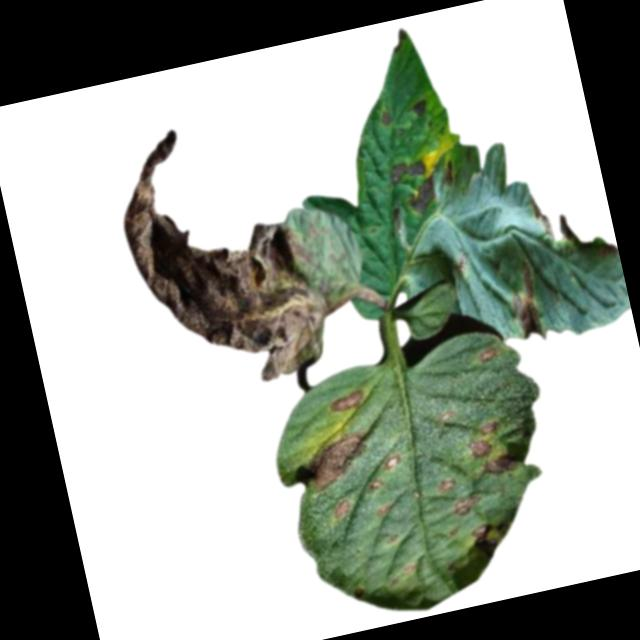Early_blight: (99, 99, 346, 402), (296, 431, 370, 489), (499, 258, 548, 342), (464, 412, 519, 477), (526, 187, 559, 247), (407, 175, 444, 218), (382, 156, 429, 186), (325, 386, 367, 414), (445, 491, 480, 519), (431, 473, 458, 496), (467, 522, 491, 546), (477, 346, 500, 366), (374, 108, 395, 129), (380, 452, 402, 472), (329, 499, 350, 519), (409, 95, 428, 117), (366, 478, 384, 492), (373, 502, 387, 515)
